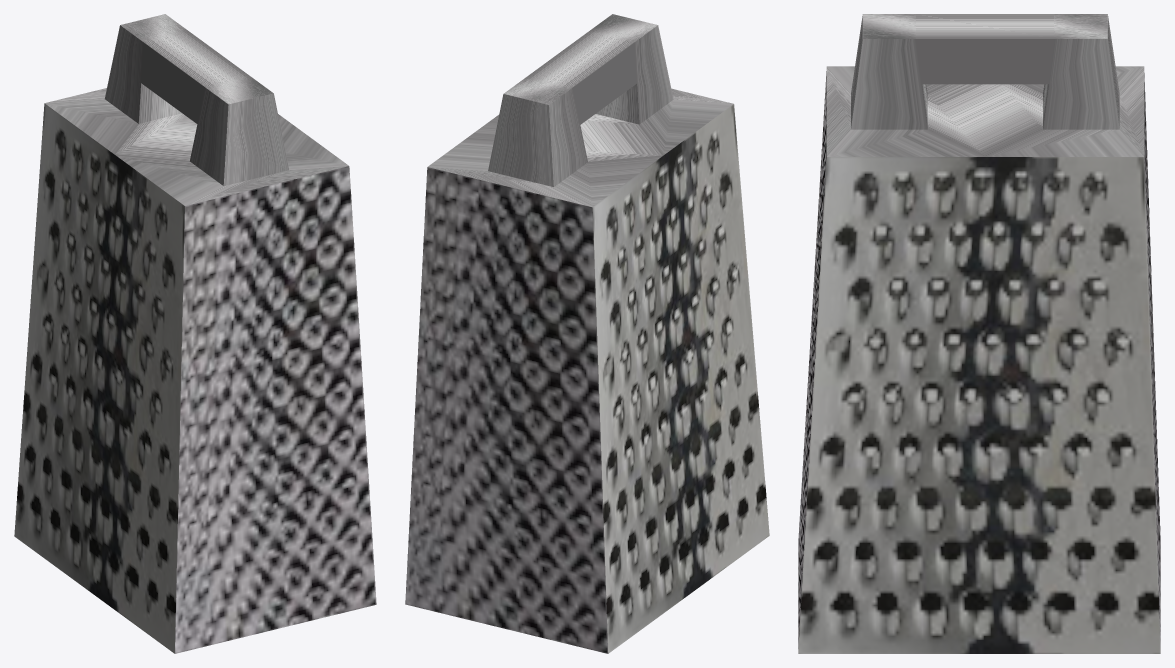
File: grate.FBX
3 renders of one model, left to right at view 1: azimuth 30°, elevation 25°; view 2: azimuth 150°, elevation 25°; view 3: azimuth 270°, elevation 25°, orthographic. The views are drawn at different scales.
Visible parts, largest first — view 1: Box001, Object001, Object002; view 2: Box001, Object001, Object002; view 3: Object001, Object002, Box001.
Part boxes in pixels (<box>): Box001: <box>175,166,376,653</box>; Object001: <box>14,103,184,653</box>; Object002: <box>44,14,348,205</box>; Box001: <box>405,167,608,653</box>; Object001: <box>592,104,769,653</box>; Object002: <box>428,14,733,207</box>; Object001: <box>798,157,1160,653</box>; Object002: <box>826,14,1144,156</box>; Box001: <box>798,71,1160,648</box>.
Bounding box in the file's own units: 34.65 × 83.47 × 47.76.
3 materials, 3 textured.
